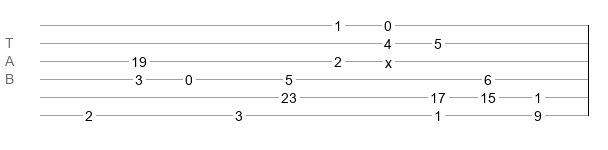0: (185, 72, 193, 82), (384, 18, 392, 28)
1: (334, 18, 342, 28), (434, 108, 442, 118), (534, 90, 542, 100)
15: (480, 90, 496, 100)
17: (430, 90, 446, 100)
19: (131, 54, 147, 64)
2: (85, 108, 93, 118), (334, 54, 342, 64)
23: (281, 90, 297, 100)
3: (135, 72, 143, 82), (235, 108, 243, 118)
4: (384, 36, 392, 46)
5: (285, 72, 293, 82), (434, 36, 442, 46)
6: (484, 72, 492, 82)
9: (534, 108, 542, 118)
x: (385, 55, 392, 63)
